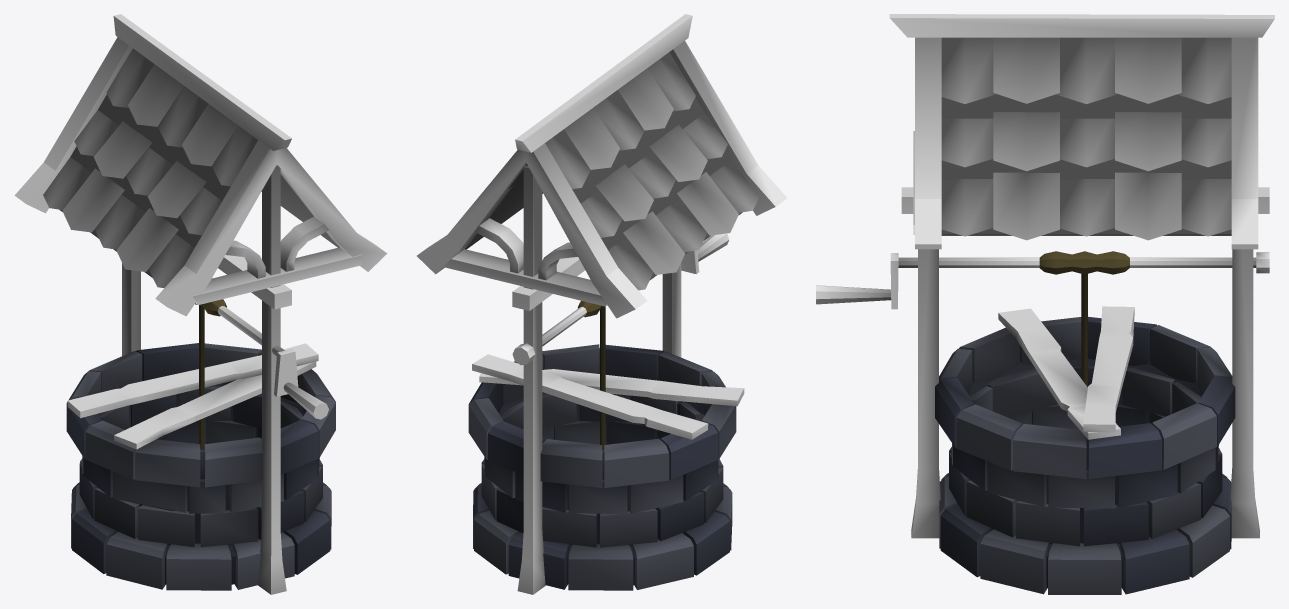
File: pq_puits.glb
3 views of the same model, side by side, from view 1: azimuth 30°, elevation 25°; view 2: azimuth 150°, elevation 25°; view 3: azimuth 270°, elevation 25° (orthographic). The views are drawn at different scales.
Visible parts, largest first — view 1: Well; view 2: Well; view 3: Well.
Boxes of the visible parts, x1=… form: Well: x1=14, y1=14, x2=387, y2=594; Well: x1=417, y1=14, x2=787, y2=594; Well: x1=816, y1=14, x2=1274, y2=594.
Bounding box in the file's own units: 1.39 × 2.6 × 2.09.
